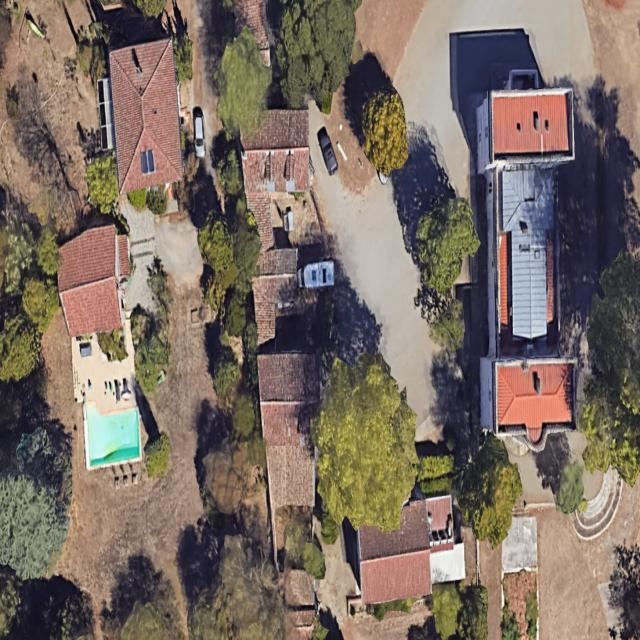immeuble: (476, 70, 577, 452)
maison: (93, 36, 184, 197), (347, 494, 471, 605), (52, 220, 135, 338)
